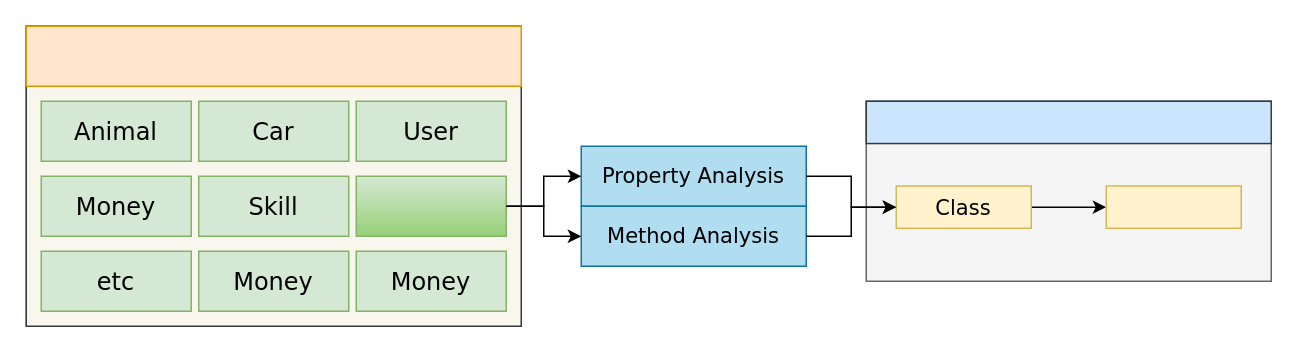
Some shapes in this 1298 by 353 pixel diagram are drawn without their labels. Each missing label, with the box of its shape:
Computer Representation: (865, 100, 1271, 144)
Object: (1105, 184, 1241, 228)
Person: (355, 175, 506, 236)
Real World Representation: (25, 25, 521, 86)
